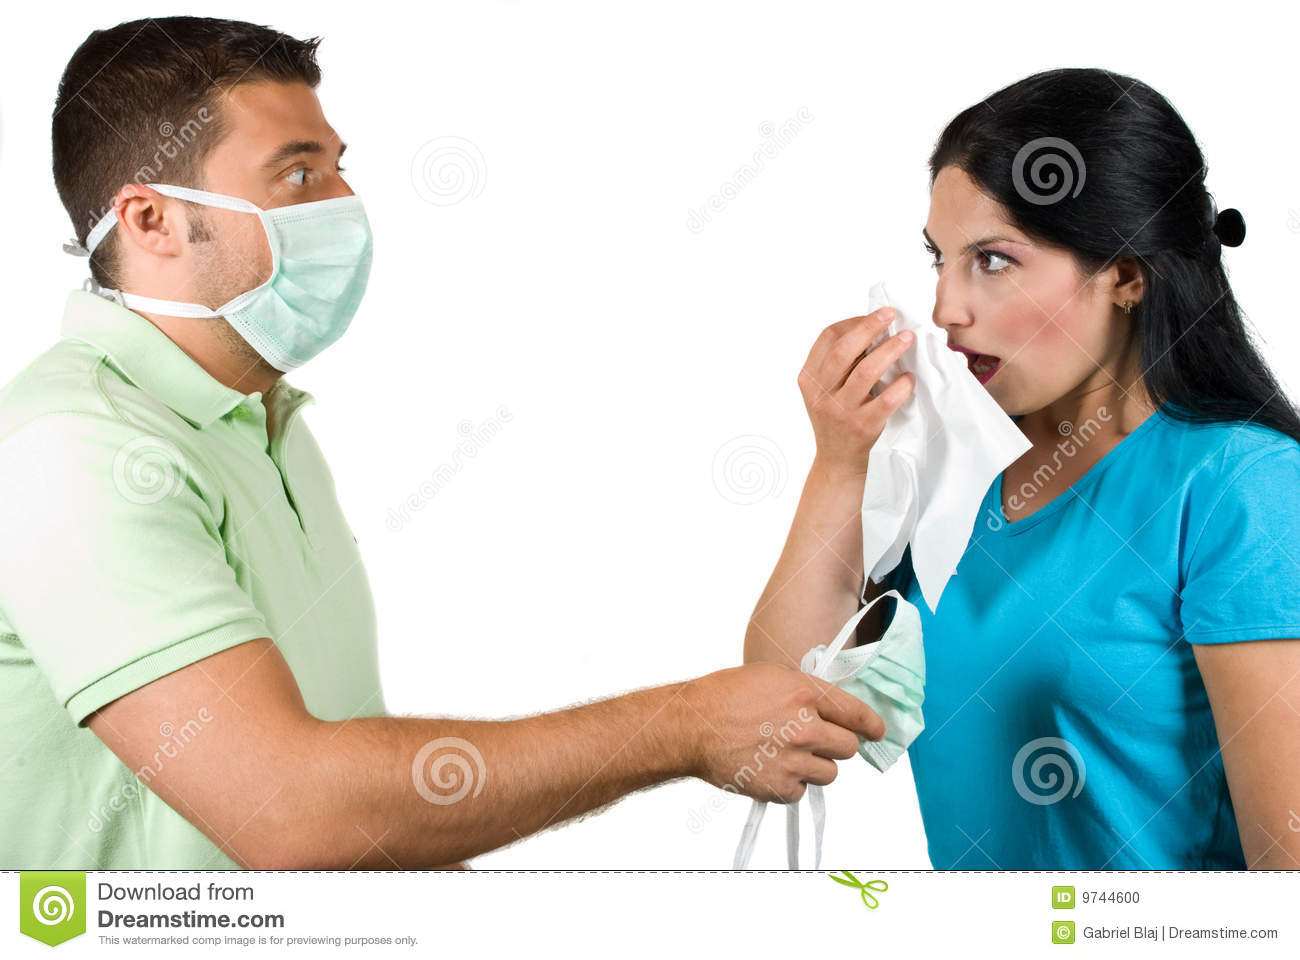mask: (213, 200, 373, 372)
